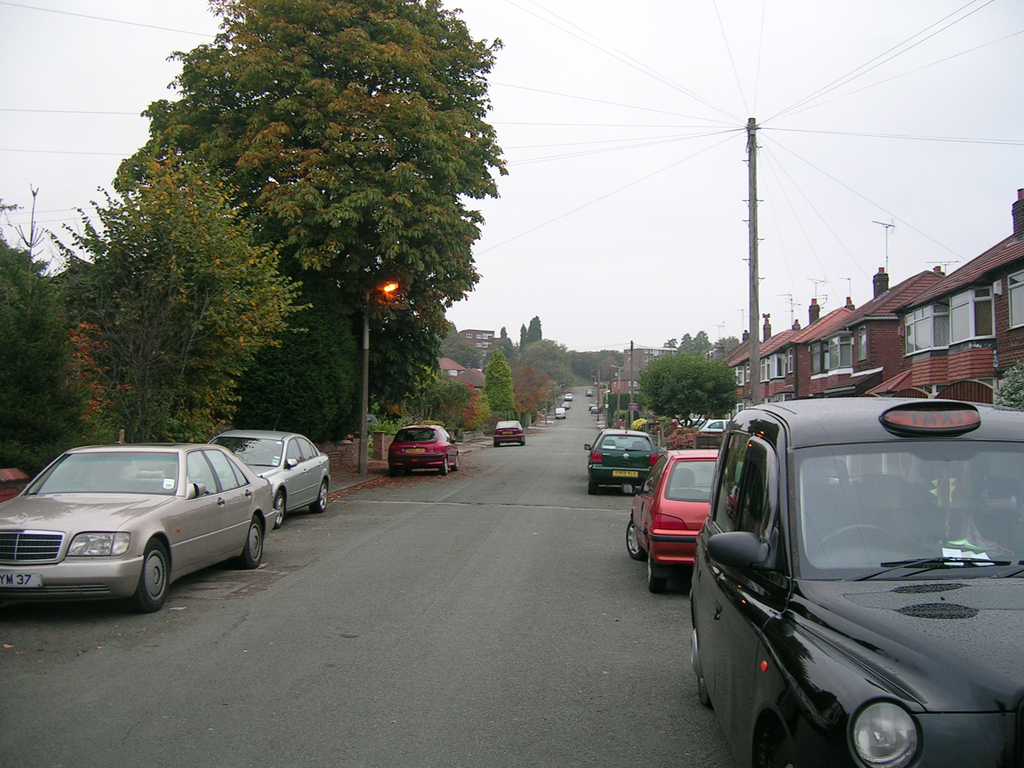Car: (689, 398, 1023, 767), (0, 443, 276, 615), (625, 448, 714, 590), (208, 423, 332, 517), (587, 430, 653, 494), (390, 422, 464, 472), (492, 419, 520, 444)
